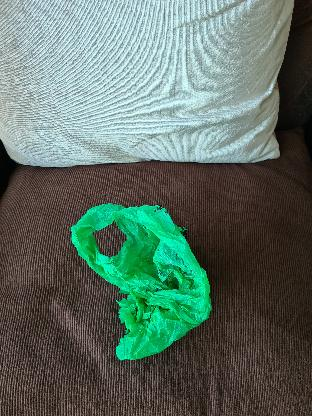Plastic Bag: (70, 198, 214, 360)
